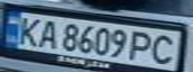0: (90, 25, 112, 56)
6: (75, 24, 96, 55)
8: (57, 20, 81, 52)
9: (109, 27, 133, 60)
A: (33, 18, 63, 50)
C: (148, 33, 181, 65)
K: (12, 15, 45, 47)
P: (127, 29, 160, 62)
